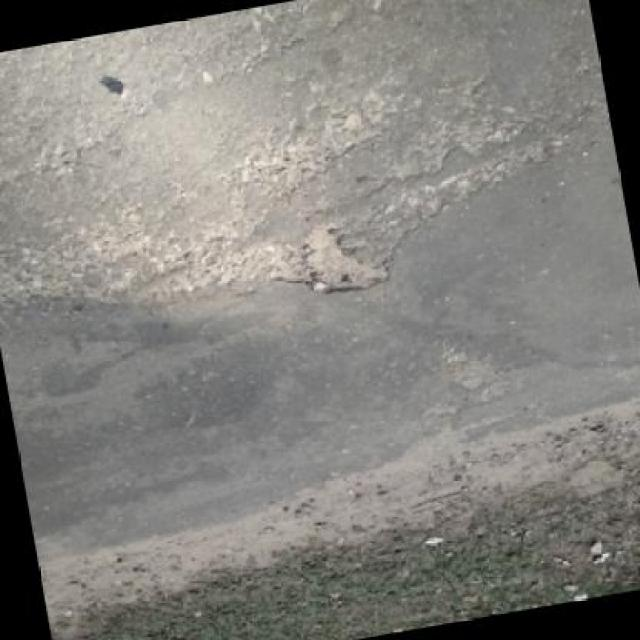pothole1: (292, 209, 396, 303)
